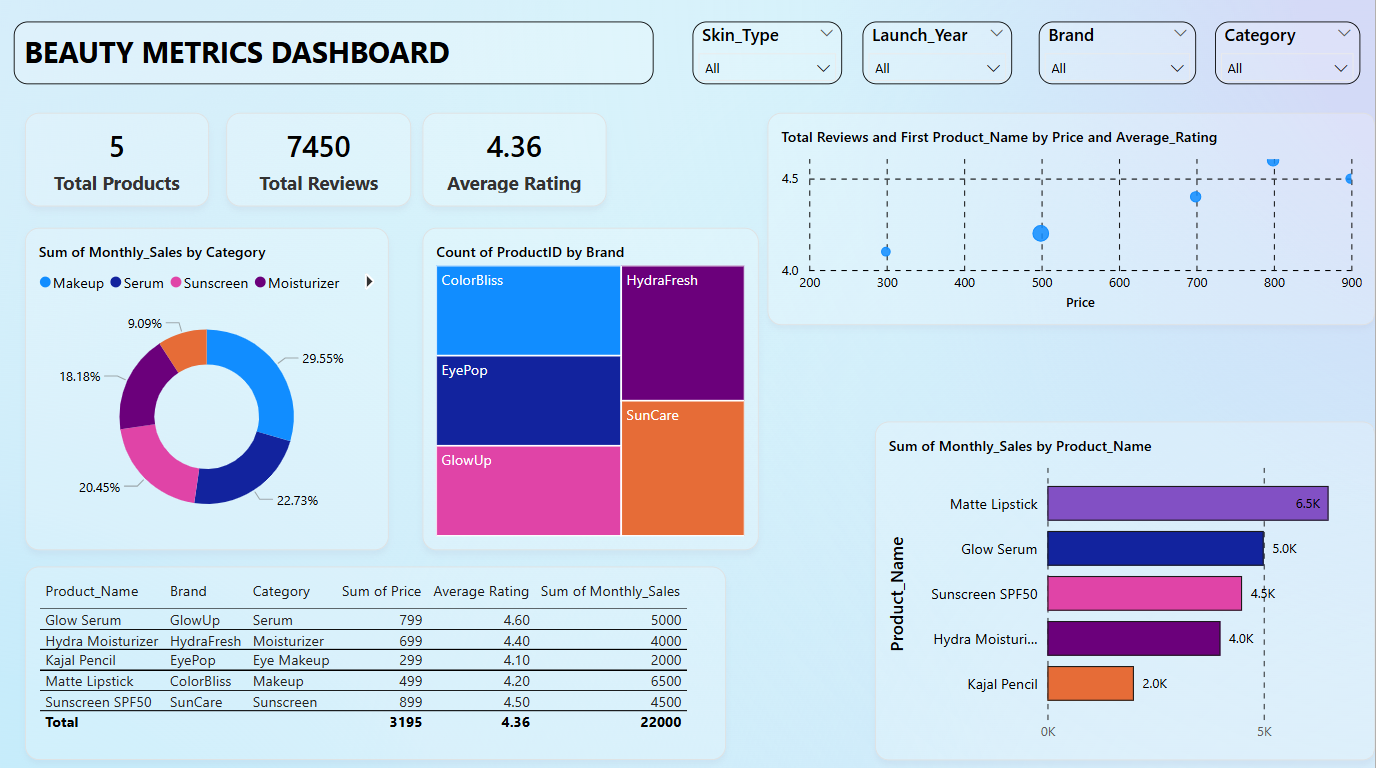

The page's visual inventory and layout, read from the dashboard file:
{"tool":"powerbi","page":{"name":"Page 1","canvas":[1280,720],"ordinal":0},"visuals":[{"type":"card","fields":{"Values":["Beauty_Reviews.Total Reviews"]},"box":[210.5,105.8,172.1,87.2],"z":0},{"type":"card","fields":{"Values":["Beauty_Reviews.Average Rating"]},"box":[393,105.8,170.9,87.2],"z":1000},{"type":"card","fields":{"Values":["Beauty_Reviews.Total Products"]},"box":[23.3,105.8,170.9,87.2],"z":2000},{"type":"slicer","fields":{"Values":["Beauty_Products.Category"]},"box":[1130.2,20.9,134.9,58.1],"z":3000},{"type":"slicer","fields":{"Values":["Beauty_Products.Brand"]},"box":[966.3,20.9,146.5,58.1],"z":4000},{"type":"donutChart","fields":{"Category":["Beauty_Products.Category"],"Y":["Sum(Beauty_Reviews.Monthly_Sales)"]},"box":[23.3,212.8,338.4,300],"z":5000},{"type":"slicer","fields":{"Values":["Beauty_Products.Launch_Year"]},"box":[802.3,20.9,139.5,58.1],"z":6000},{"type":"clusteredBarChart","fields":{"Y":["Sum(Beauty_Reviews.Monthly_Sales)"],"Category":["Beauty_Products.Product_Name"]},"box":[814,393,466.3,315.1],"z":7000},{"type":"scatterChart","fields":{"X":["Beauty_Products.Price"],"Y":["Beauty_Reviews.Average_Rating"],"Size":["Beauty_Reviews.Total Reviews"]},"box":[714,105.8,566.3,197.7],"z":8000},{"type":"textbox","box":[12.8,20.9,595.4,58.1],"z":9000},{"type":"tableEx","fields":{"Values":["Beauty_Products.Product_Name","Beauty_Products.Brand","Beauty_Products.Category","Sum(Beauty_Products.Price)","Beauty_Reviews.Average Rating","Sum(Beauty_Reviews.Monthly_Sales)"]},"box":[23.3,527.9,652.3,180.2],"z":10000},{"type":"treemap","fields":{"Group":["Beauty_Products.Brand"],"Values":["CountNonNull(Beauty_Products.ProductID)"]},"box":[393,212.8,312.8,300],"z":11000},{"type":"slicer","fields":{"Values":["Beauty_Products.Skin_Type"]},"box":[644.2,20.9,139.5,58.1],"z":12000}]}

Visuals, with their boxes in screenshot pixels (x1, y1, x2, y2), scaled from the page's 1280x720 canvas onto the 1377x768 screenshot:
card - Beauty_Reviews.Total Reviews: (left=226, top=113, right=412, bottom=206)
card - Beauty_Reviews.Average Rating: (left=423, top=113, right=607, bottom=206)
card - Beauty_Reviews.Total Products: (left=25, top=113, right=209, bottom=206)
slicer - Beauty_Products.Category: (left=1216, top=22, right=1361, bottom=84)
slicer - Beauty_Products.Brand: (left=1040, top=22, right=1197, bottom=84)
donutChart - Beauty_Products.Category x Sum(Beauty_Reviews.Monthly_Sales): (left=25, top=227, right=389, bottom=547)
slicer - Beauty_Products.Launch_Year: (left=863, top=22, right=1013, bottom=84)
clusteredBarChart - Sum(Beauty_Reviews.Monthly_Sales) x Beauty_Products.Product_Name: (left=876, top=419, right=1376, bottom=755)
scatterChart - Beauty_Products.Price x Beauty_Reviews.Average_Rating: (left=768, top=113, right=1376, bottom=324)
textbox: (left=14, top=22, right=654, bottom=84)
tableEx - Beauty_Products.Product_Name x Beauty_Products.Brand: (left=25, top=563, right=727, bottom=755)
treemap - Beauty_Products.Brand x CountNonNull(Beauty_Products.ProductID): (left=423, top=227, right=759, bottom=547)
slicer - Beauty_Products.Skin_Type: (left=693, top=22, right=843, bottom=84)
